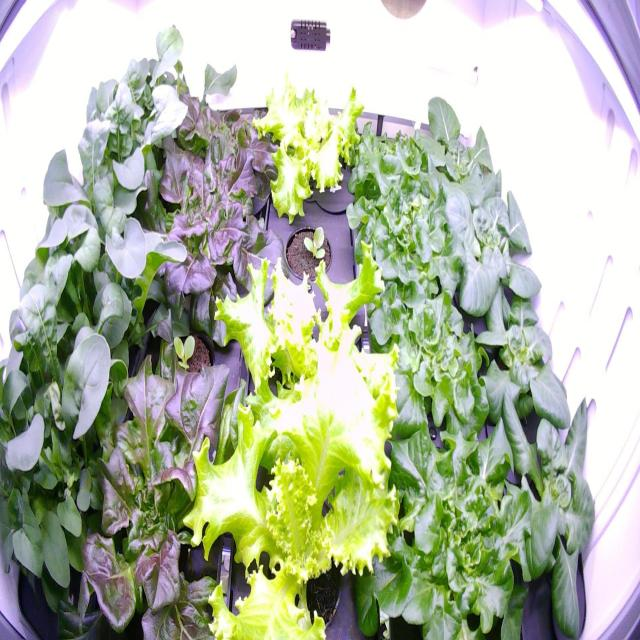germination: (278, 207, 340, 290)
young: (481, 384, 605, 640), (461, 278, 577, 450), (427, 174, 544, 332), (406, 90, 504, 217)
